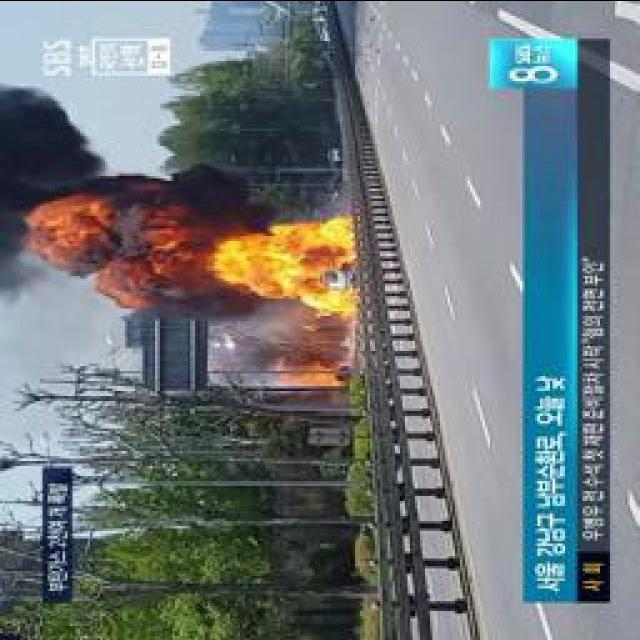Fire: (228, 222, 352, 310), (272, 356, 336, 386)
